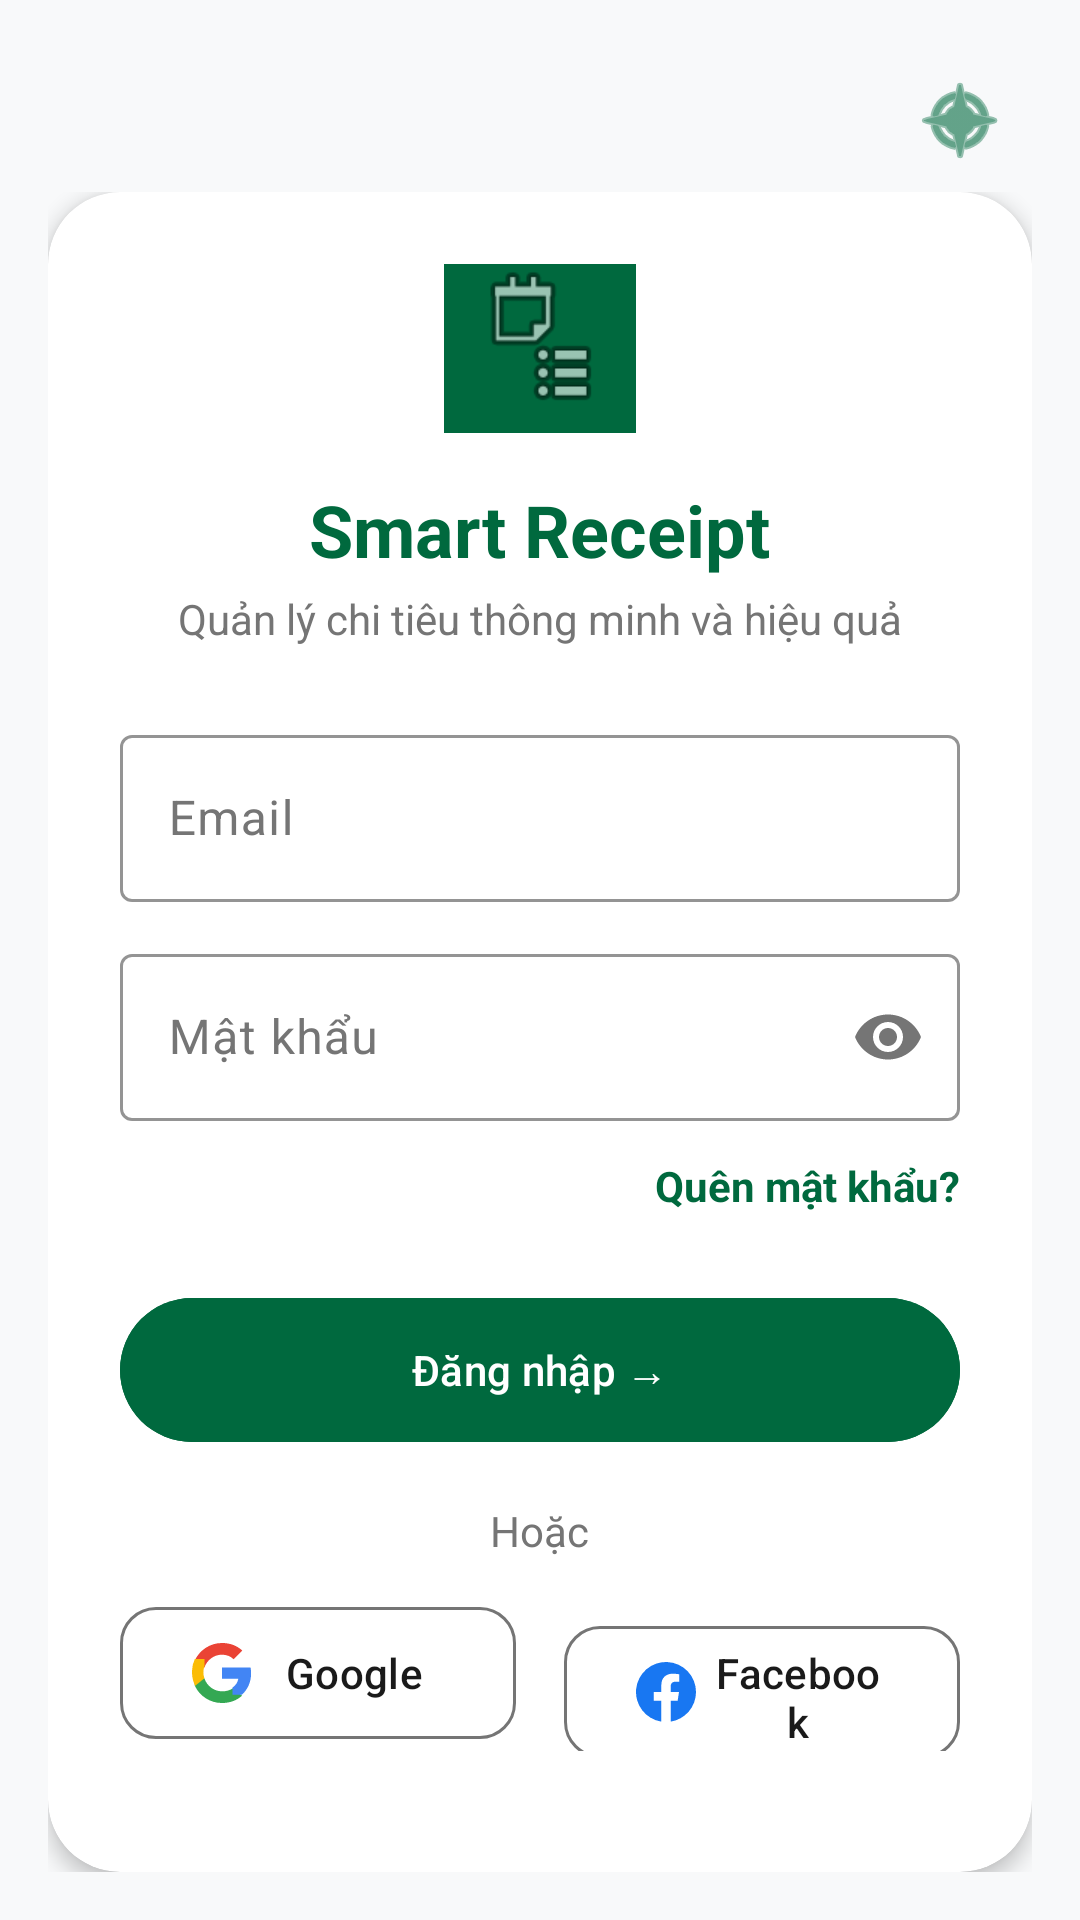

Locate icon controls on the screen. Image size 1080 x 1920, boxes as (x1, y1, x2, y2).
agenda: (444, 264, 636, 433)
compass: (922, 83, 998, 158)
